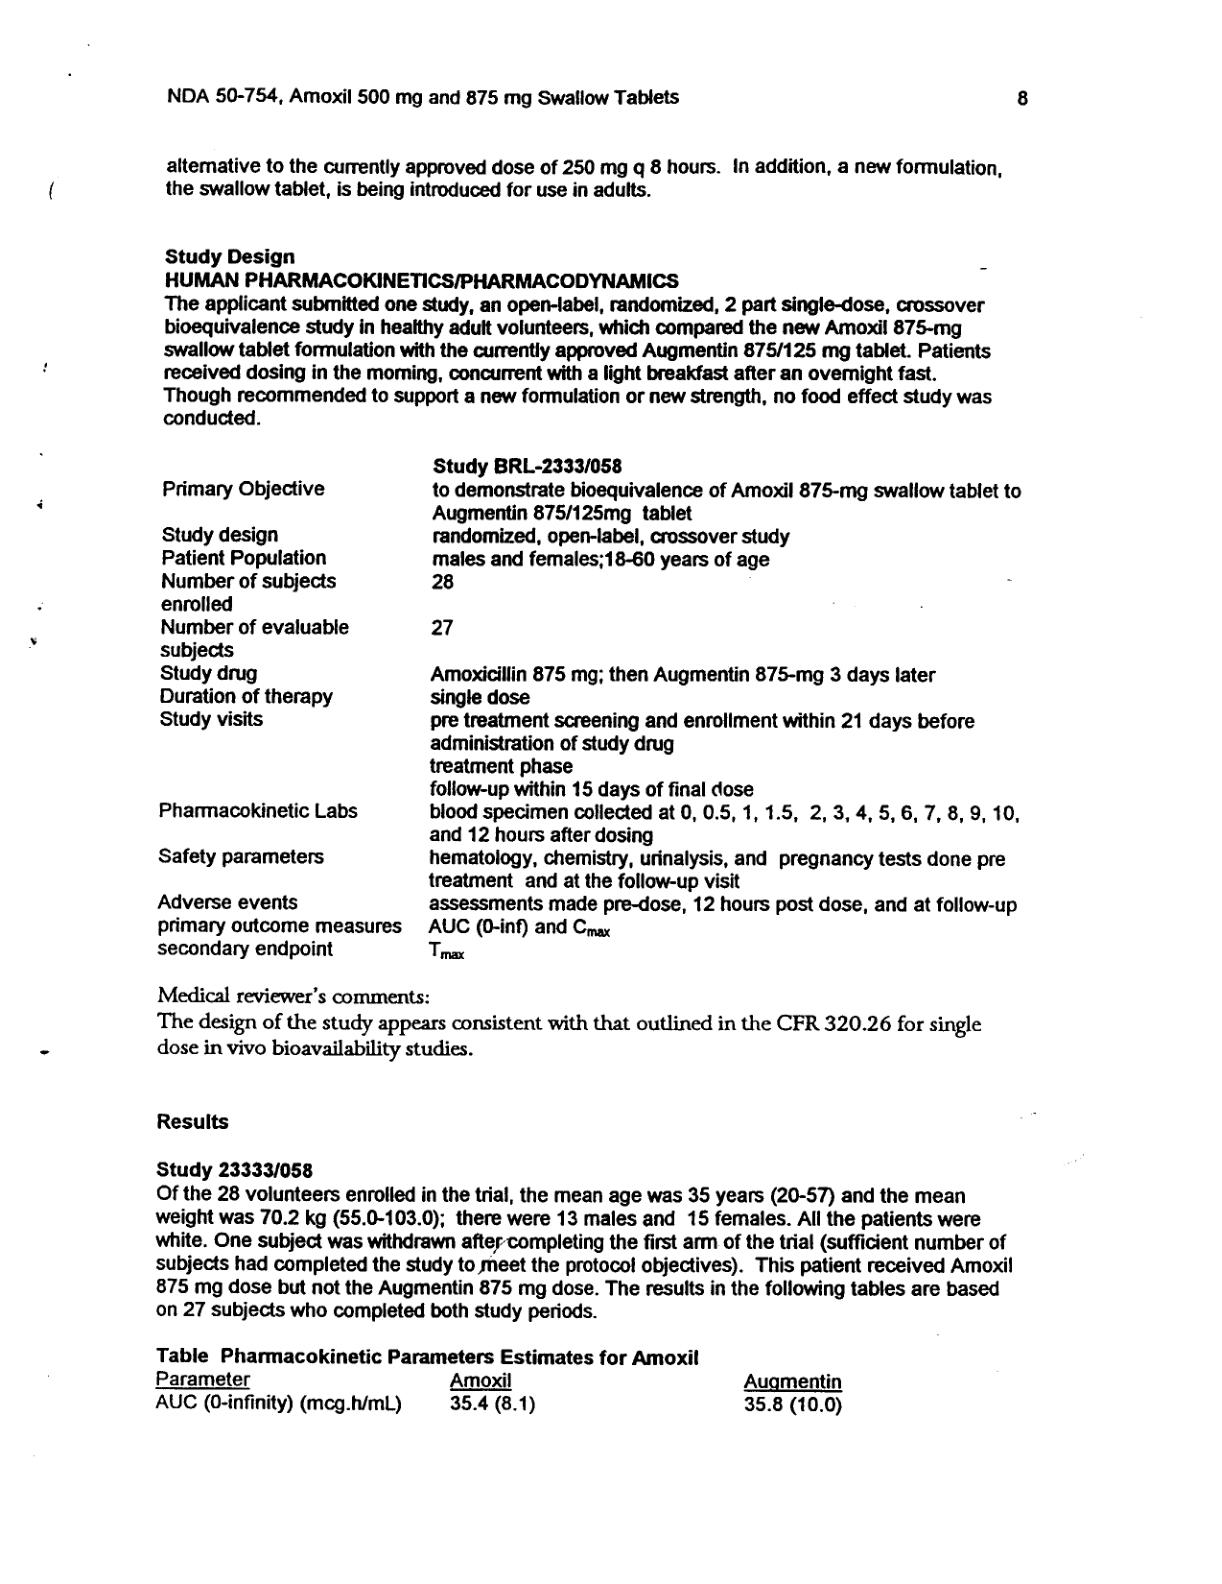nolines: (157, 457, 1023, 965), (153, 1368, 846, 1418)
